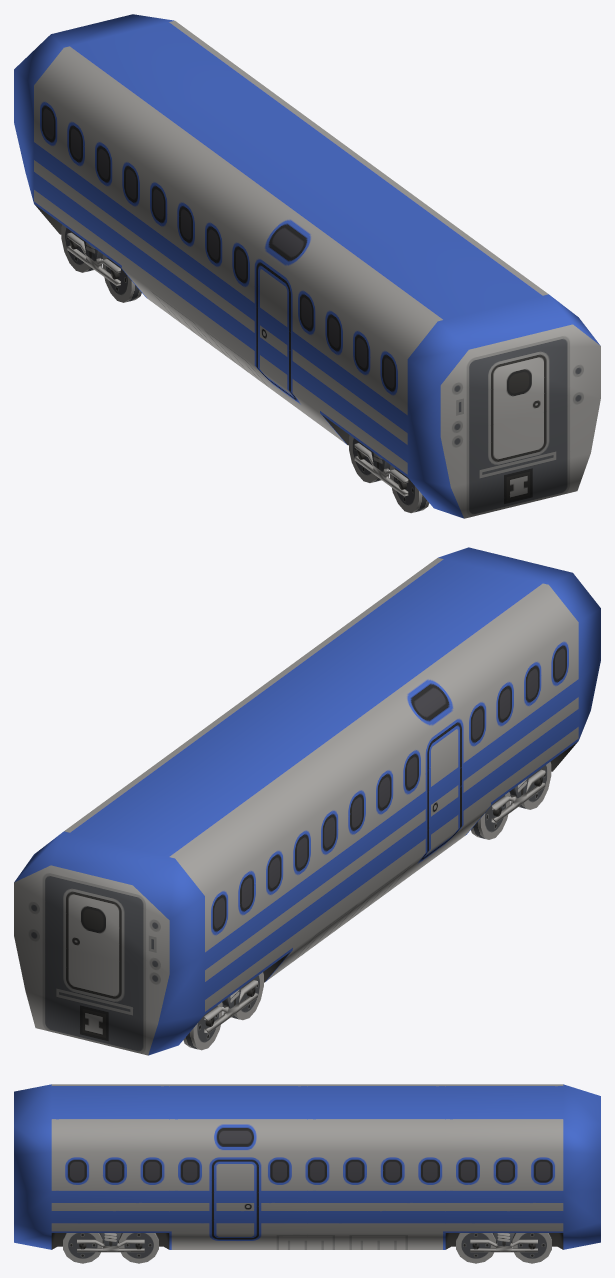
The model's file is RailwayCarriage.glb.
The picture shows the model from 3 angles, top to bottom: view 1: azimuth 30°, elevation 25°; view 2: azimuth 150°, elevation 25°; view 3: azimuth 270°, elevation 25°; orthographic projection. The views are drawn at different scales.
Visible parts, largest first — view 1: Railway_carriage_b, Wheel_a, Wheel_c; view 2: Railway_carriage_b, Wheel_d, Wheel_b; view 3: Railway_carriage_b, Wheel_e, Wheel_h, Wheel_g, Wheel_f.
Part boxes in pixels (x1=…): Railway_carriage_b: x1=14, y1=14, x2=600, y2=518; Wheel_a: x1=390, y1=465, x2=429, y2=513; Wheel_c: x1=102, y1=255, x2=141, y2=302; Railway_carriage_b: x1=14, y1=547, x2=600, y2=1055; Wheel_d: x1=183, y1=1002, x2=222, y2=1050; Wheel_b: x1=471, y1=792, x2=510, y2=839; Railway_carriage_b: x1=14, y1=1084, x2=600, y2=1252; Wheel_e: x1=456, y1=1233, x2=495, y2=1263; Wheel_h: x1=119, y1=1233, x2=158, y2=1263; Wheel_g: x1=63, y1=1233, x2=102, y2=1263; Wheel_f: x1=512, y1=1233, x2=551, y2=1263.
Bounding box in the file's own units: 96.18 × 110 × 418.
1 material, 1 textured.
